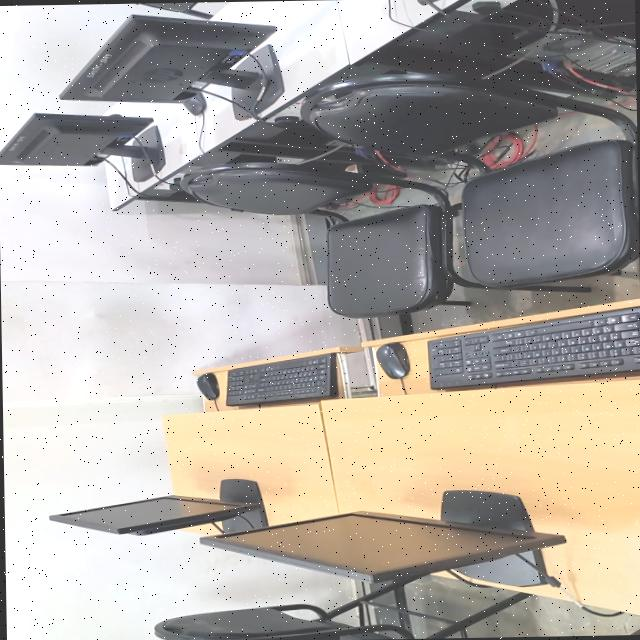Chair: (300, 72, 639, 290), (178, 161, 485, 317), (153, 584, 528, 640)
Keyboard: (425, 306, 640, 389), (224, 354, 334, 405)
Monitor: (199, 490, 564, 587), (58, 15, 282, 120), (48, 479, 266, 535), (0, 113, 163, 182)
Mouse: (465, 0, 636, 87), (375, 342, 408, 378), (195, 373, 218, 400)
